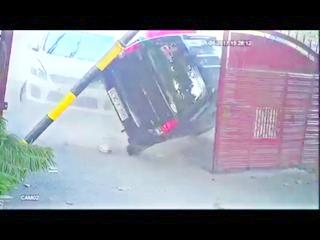Car: (103, 33, 220, 158), (17, 32, 120, 118)
Major Accident: (16, 31, 223, 160)
